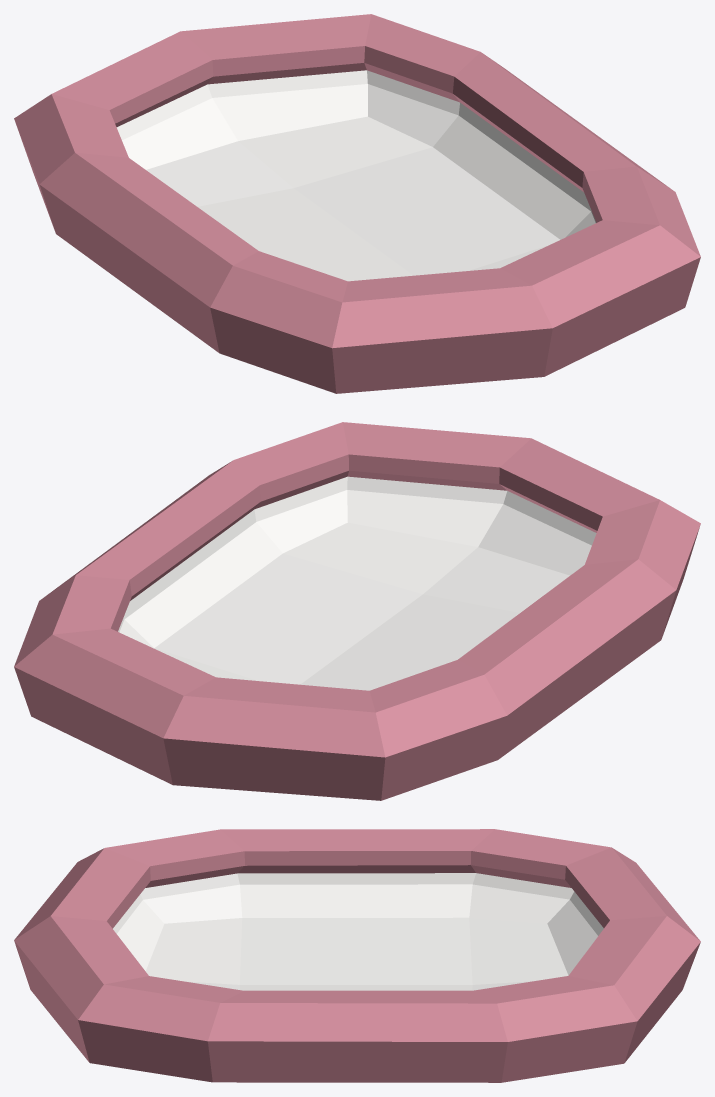
File: DogBed_3.fbx
3 renders of one model, top to bottom at view 1: azimuth 30°, elevation 25°; view 2: azimuth 150°, elevation 25°; view 3: azimuth 270°, elevation 25°, orthographic. The views are drawn at different scales.
Parts seen in each view (by area): view 1: DogBed_3; view 2: DogBed_3; view 3: DogBed_3.
Boxes of the visible parts, left/top/right/bottom form: DogBed_3: left=14, top=14, right=700, bottom=393; DogBed_3: left=14, top=422, right=700, bottom=800; DogBed_3: left=14, top=829, right=700, bottom=1082.
Size of the model in its own units: 92.08 by 133 by 23.45.
